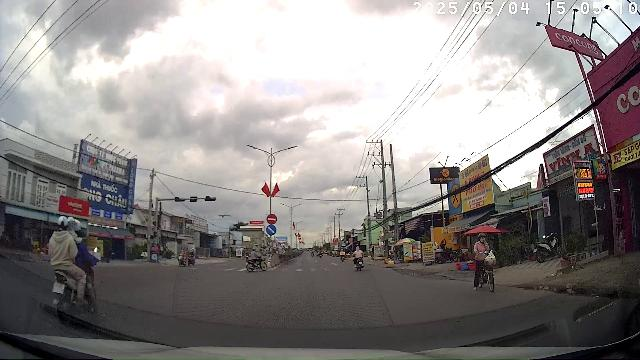102-cam-di-nguoc-chieu: (266, 214, 278, 224)
302a-huong-phai-di-vong-chuong-ngai-vat-1: (266, 224, 277, 235)
